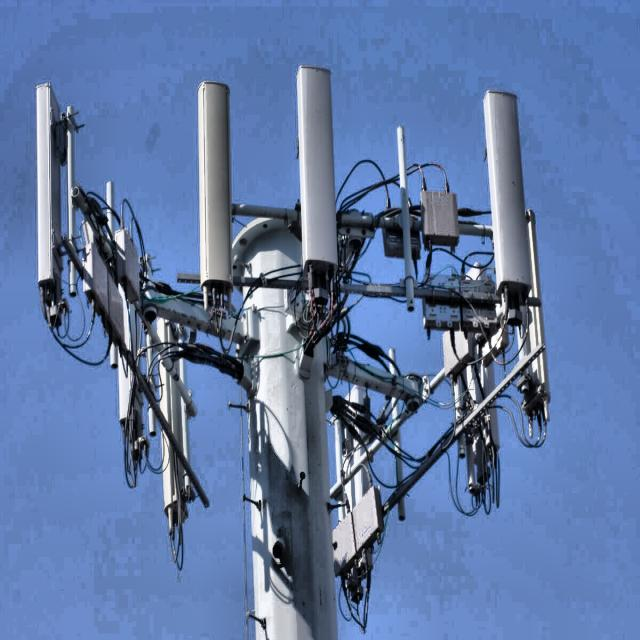antenna: (515, 209, 549, 447), (297, 65, 337, 265), (198, 81, 232, 316), (35, 83, 64, 327), (151, 311, 190, 457), (114, 228, 141, 356), (220, 163, 231, 292)
